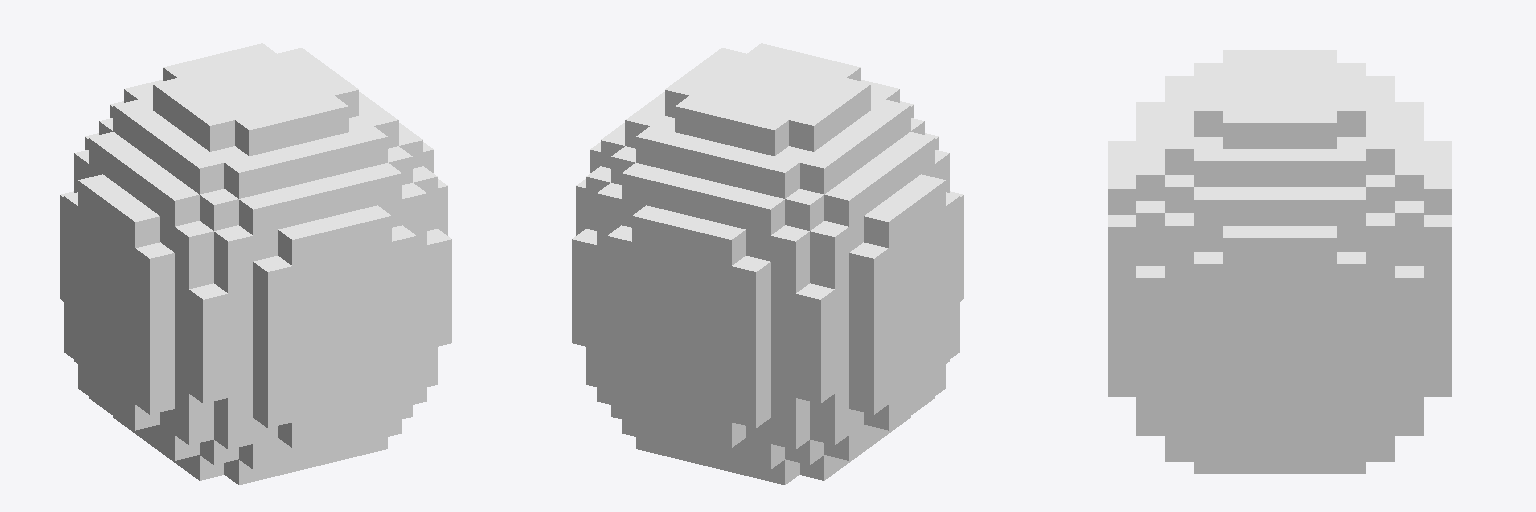
3 renders of one model, left to right at view 1: azimuth 30°, elevation 25°; view 2: azimuth 150°, elevation 25°; view 3: azimuth 270°, elevation 25°, orthographic.
Visible parts, largest first — view 1: _1; view 2: _1; view 3: _1.
Boxes of the visible parts, <box> form: _1: <box>60,43,451,484</box>; _1: <box>572,43,963,484</box>; _1: <box>1108,50,1451,473</box>.
Bounding box in the file's own units: 12 × 13 × 12.
Materials: 1 (1 with a texture image).